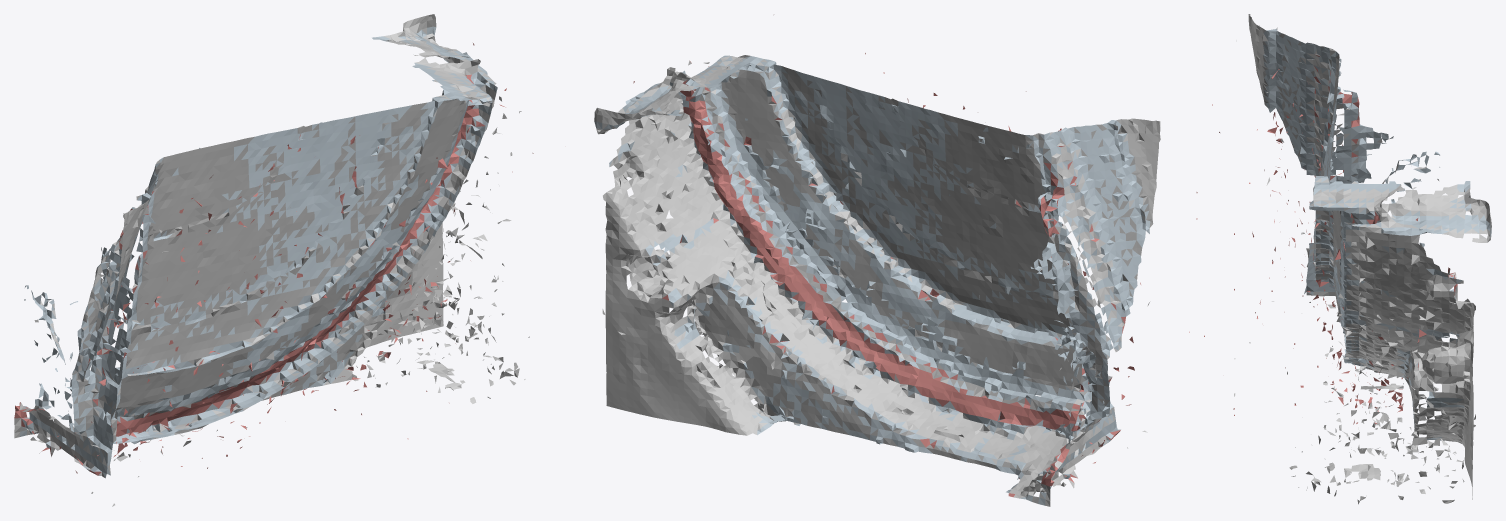
File: R1-보존띠-1__nojudge_ALS_s0__before.glb
3 views of the same model, side by side, from view 1: azimuth 30°, elevation 25°; view 2: azimuth 150°, elevation 25°; view 3: azimuth 270°, elevation 25° (orthographic). The views are drawn at different scales.
Bounding box in the file's own units: 51.46 × 34.47 × 32.18.
